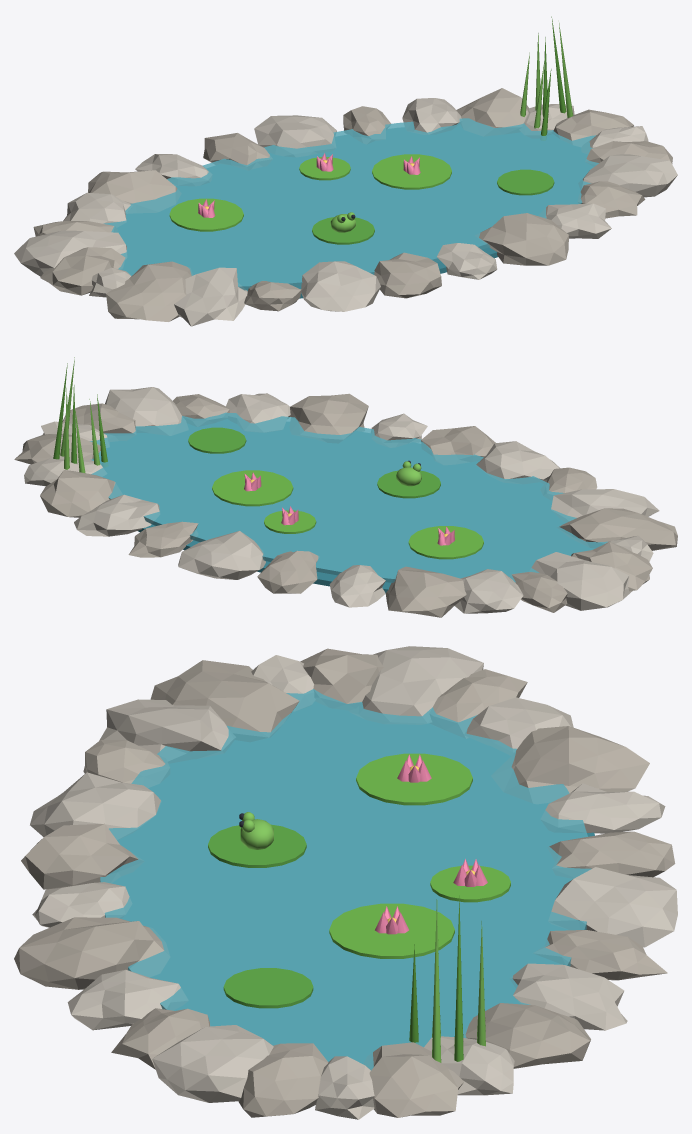
Rendered from pool-lily.glb.
3 renders of one model, top to bottom at view 1: azimuth 30°, elevation 25°; view 2: azimuth 150°, elevation 25°; view 3: azimuth 270°, elevation 25°, orthographic. The views are drawn at different scales.
Bounding box in the file's own units: 4.87 × 0.9082 × 2.96.
